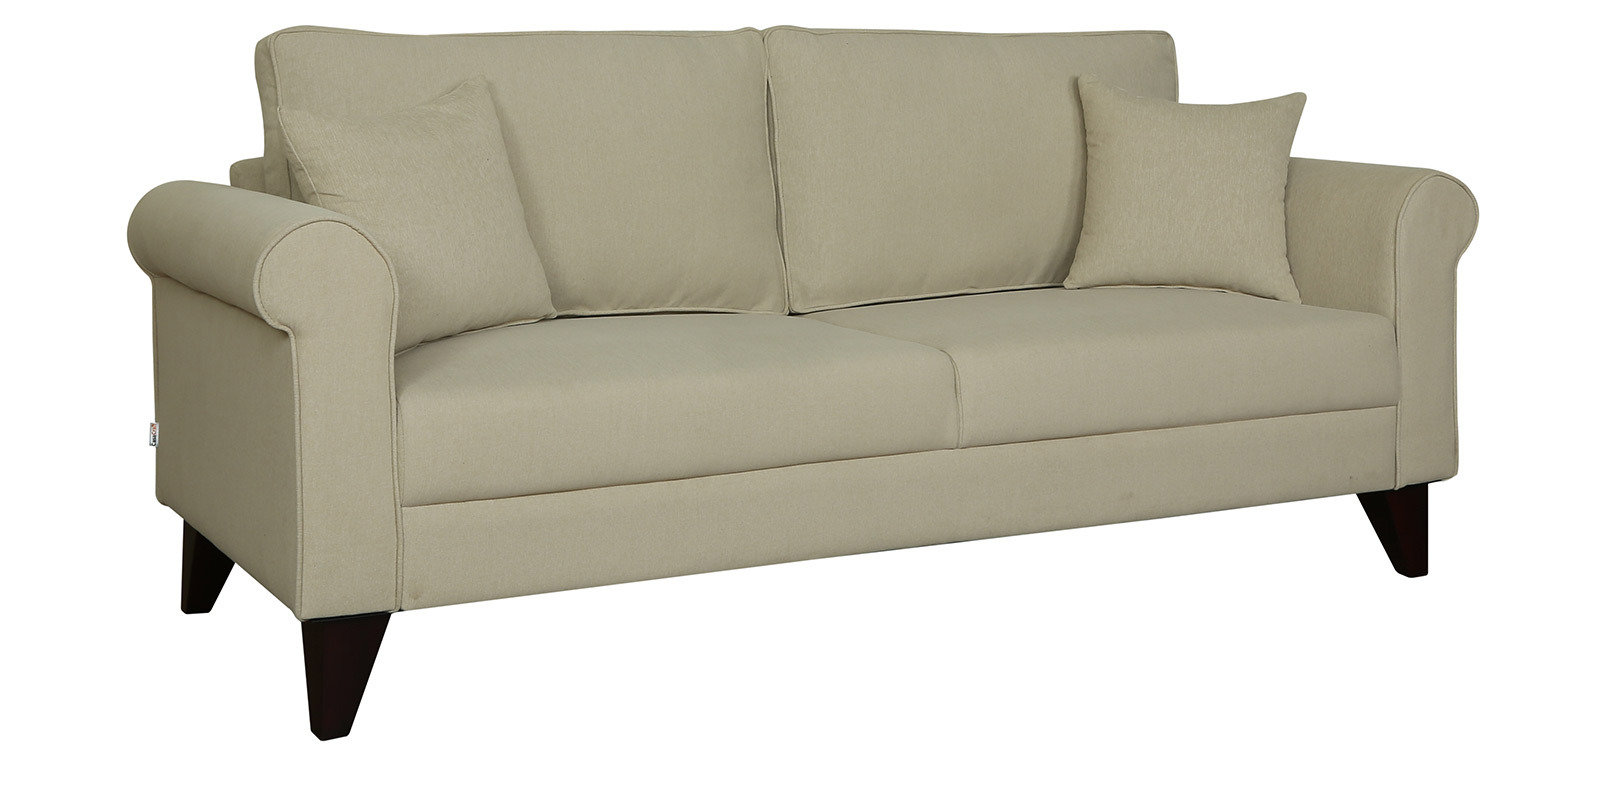Fuego Three Seater Sofa in Beige Colour by CasaCraft: (112, 19, 1503, 743)
